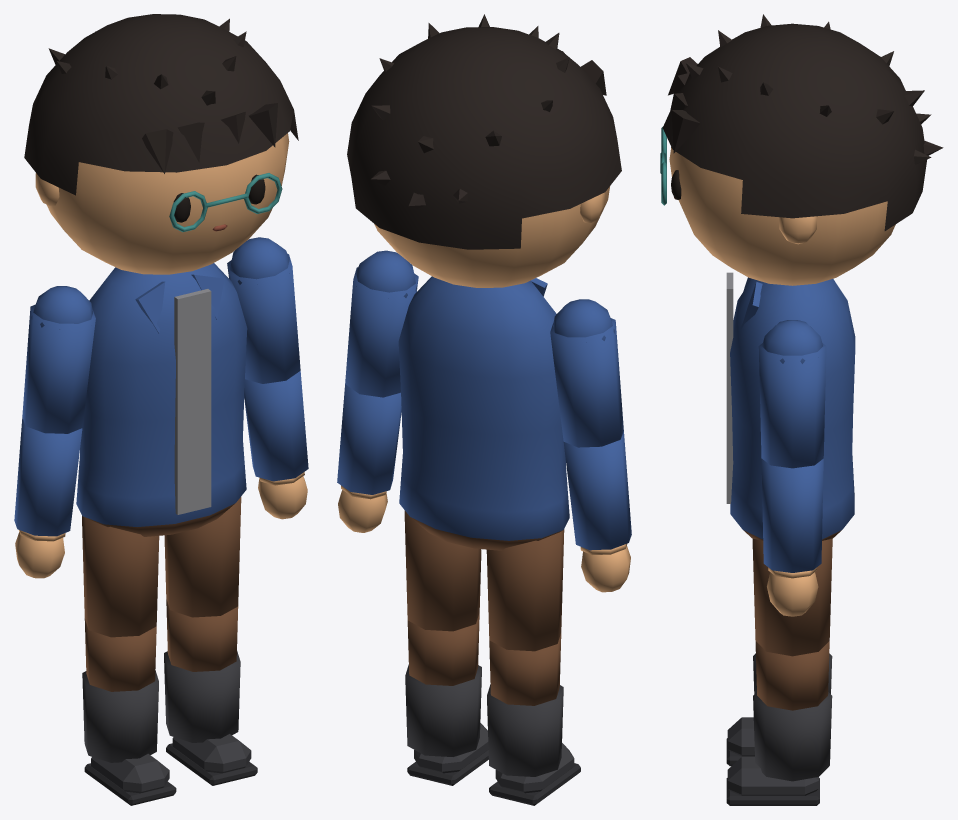
The model's file is era5_engineer.glb.
The picture shows the model from 3 angles, left to right: view 1: azimuth 30°, elevation 25°; view 2: azimuth 150°, elevation 25°; view 3: azimuth 270°, elevation 25°; orthographic projection.
Visible parts, largest first — view 1: head, body, shin_L, shin_R, arm_R, forearm_R, leg_R, arm_L, forearm_L, leg_L; view 2: head, body, shin_R, shin_L, arm_R, forearm_R, leg_R, arm_L, forearm_L, leg_L; view 3: head, body, shin_L, arm_L, forearm_L, leg_L, shin_R.
Part boxes in pixels (left/top/right/bottom): head: left=24, top=14, right=298, bottom=274; body: left=76, top=263, right=247, bottom=536; shin_L: left=164, top=599, right=257, bottom=785; shin_R: left=82, top=618, right=176, bottom=805; arm_R: left=22, top=286, right=95, bottom=433; forearm_R: left=14, top=417, right=82, bottom=578; leg_R: left=82, top=516, right=159, bottom=637; arm_L: left=227, top=237, right=300, bottom=383; forearm_L: left=244, top=371, right=308, bottom=519; leg_L: left=164, top=496, right=241, bottom=617; head: left=347, top=14, right=621, bottom=287; body: left=398, top=276, right=569, bottom=550; shin_R: left=487, top=633, right=580, bottom=805; shin_L: left=405, top=613, right=488, bottom=785; arm_R: left=550, top=299, right=623, bottom=447; forearm_R: left=563, top=431, right=631, bottom=592; leg_R: left=486, top=529, right=564, bottom=651; arm_L: left=345, top=250, right=418, bottom=397; forearm_L: left=337, top=384, right=401, bottom=532; leg_L: left=404, top=510, right=481, bottom=631; head: left=660, top=14, right=943, bottom=285; body: left=726, top=272, right=855, bottom=540; shin_L: left=726, top=641, right=832, bottom=805; arm_L: left=758, top=320, right=826, bottom=468; forearm_L: left=761, top=458, right=823, bottom=616; leg_L: left=752, top=538, right=832, bottom=656; shin_R: left=726, top=653, right=832, bottom=766.
Bounding box in the file's own units: 0.6015 × 1.48 × 0.5134.
